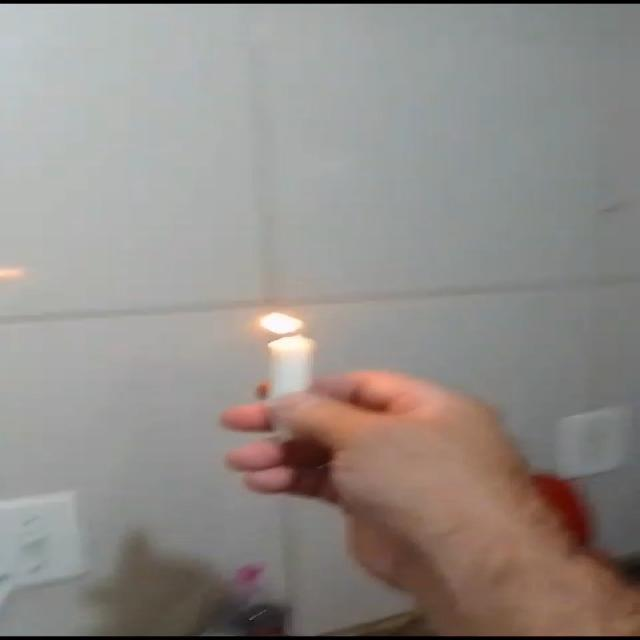fogo-ypXI: (260, 311, 304, 335)
